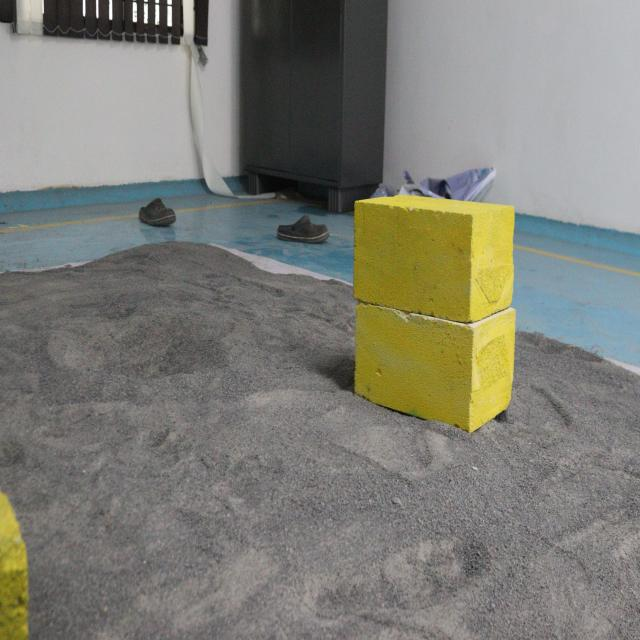box: (348, 192, 519, 438)
crater: (44, 296, 229, 396)
